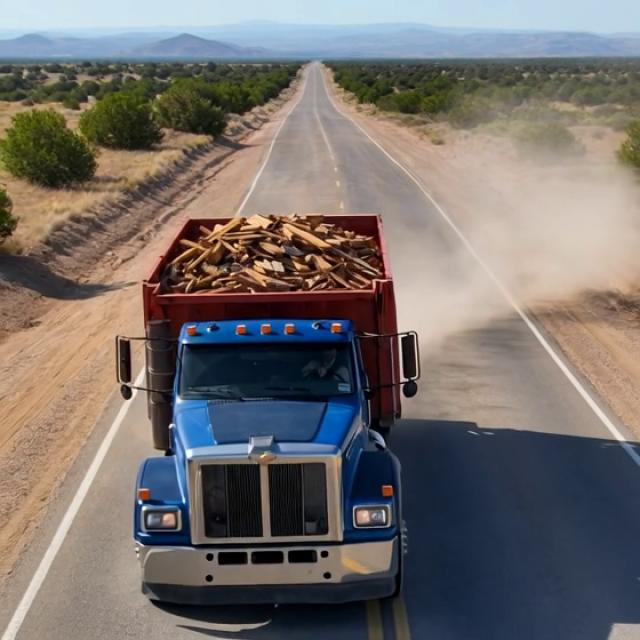trailer: (135, 210, 409, 310)
truck: (102, 195, 450, 608)
